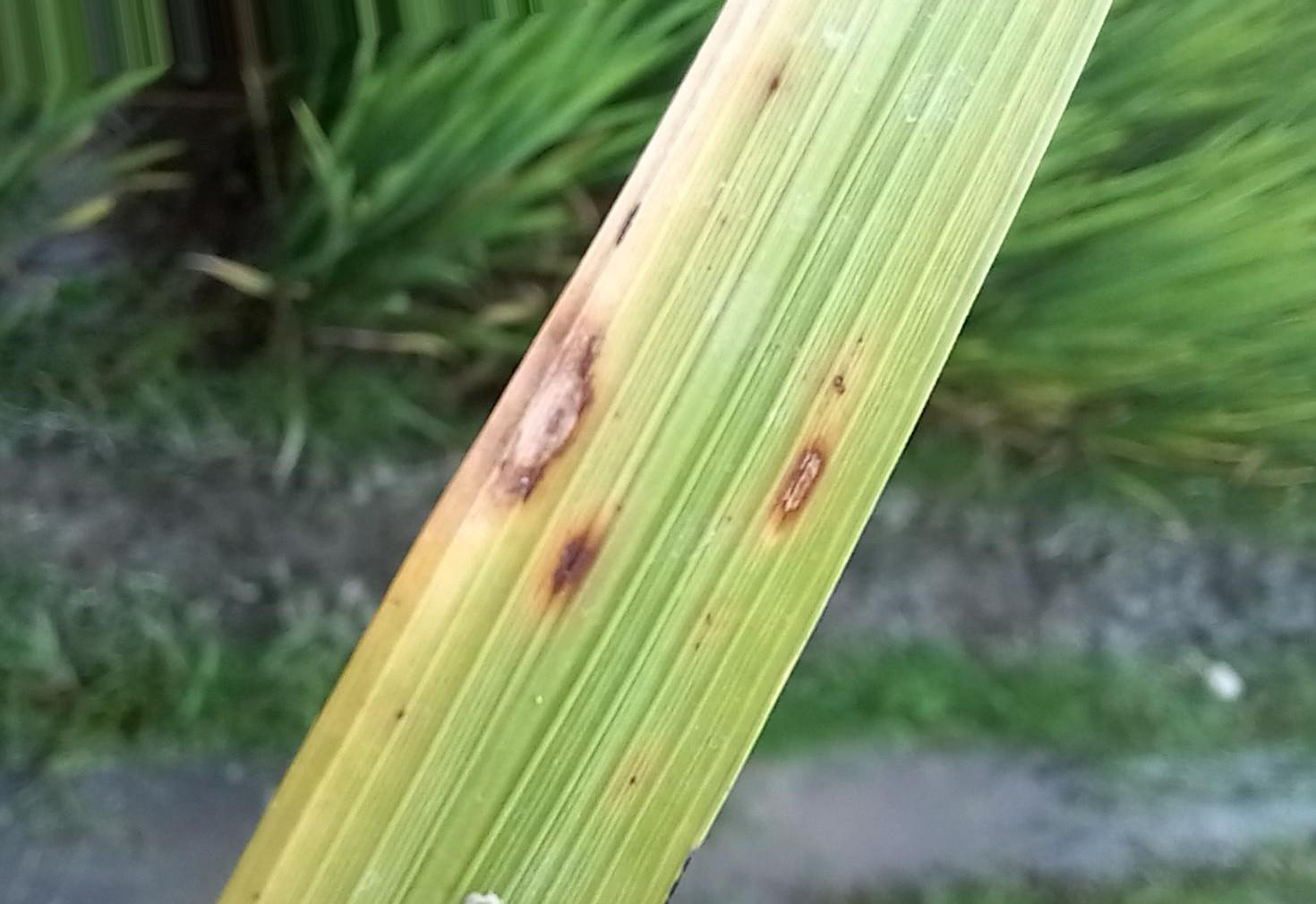LEAF: (218, 0, 1110, 903)
LEAF BLAST: (490, 331, 601, 515), (774, 439, 828, 523), (549, 525, 597, 607)
